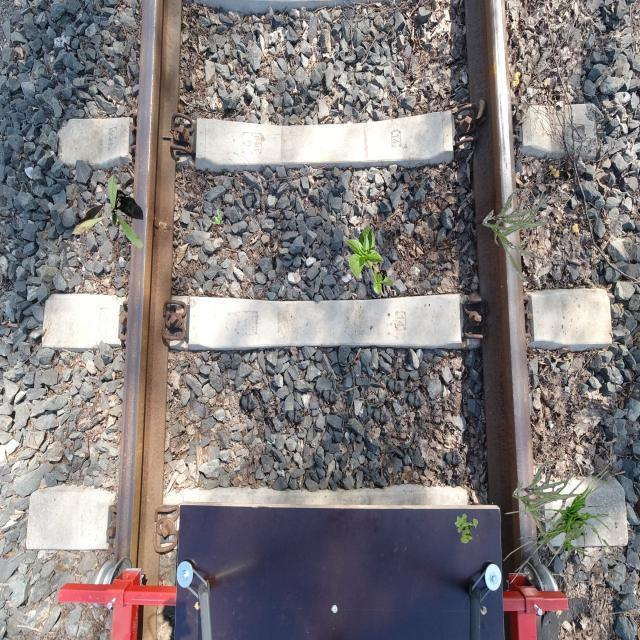Plant: (503, 462, 622, 584), (482, 189, 555, 282), (512, 461, 585, 554), (72, 174, 144, 248), (346, 226, 394, 297), (455, 513, 479, 544), (210, 209, 224, 224)
